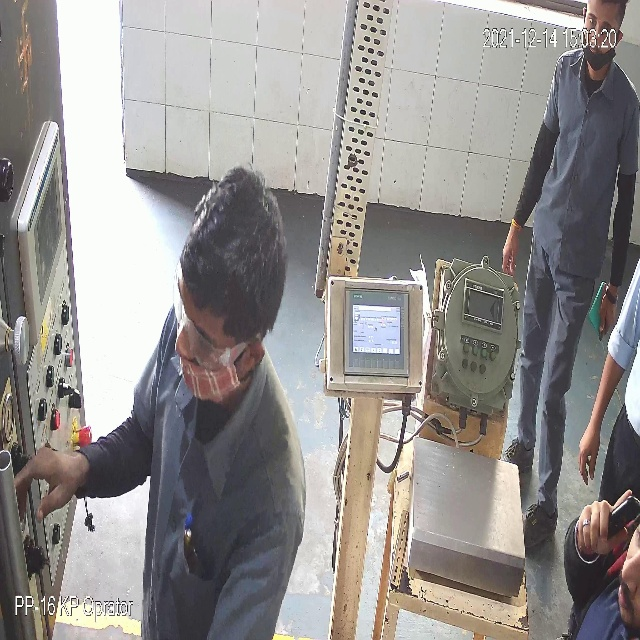Sin_guantes: (575, 352, 625, 485), (12, 440, 89, 516), (500, 217, 524, 278)
